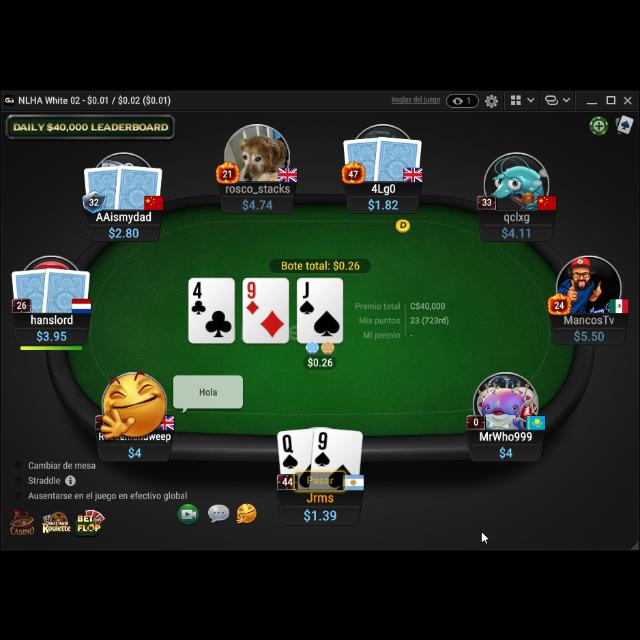4c: (190, 280, 208, 316)
9d: (244, 280, 260, 316)
9s: (314, 430, 332, 468)
Js: (300, 280, 314, 316)
Qs: (282, 434, 298, 471)
bet_text: (306, 353, 336, 367)
card_back: (42, 264, 92, 314), (373, 133, 423, 183), (114, 162, 164, 212), (82, 162, 126, 212), (10, 266, 54, 312), (342, 134, 384, 182)
dealer: (394, 214, 412, 232)
pot_text: (280, 258, 362, 270)
stack_text: (302, 504, 338, 522), (241, 194, 275, 212), (34, 326, 68, 342), (501, 222, 534, 238), (106, 224, 142, 238), (572, 327, 606, 341), (366, 196, 399, 210), (498, 442, 514, 458), (127, 442, 143, 458)
